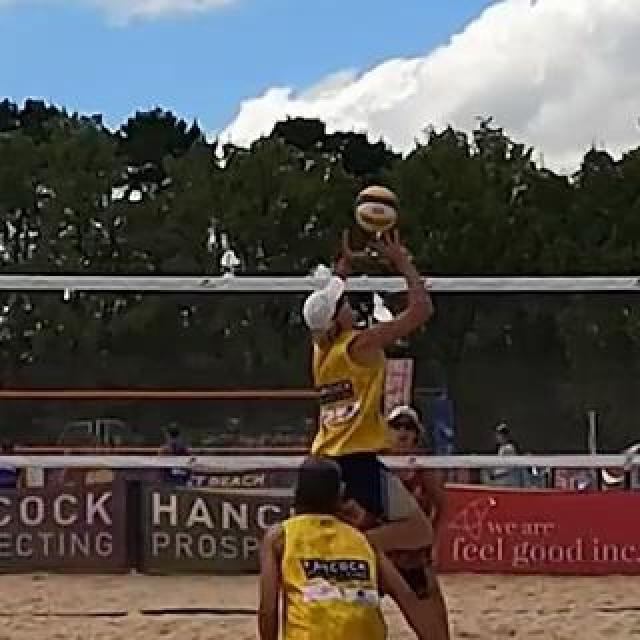volleyball: (355, 186, 397, 232)
